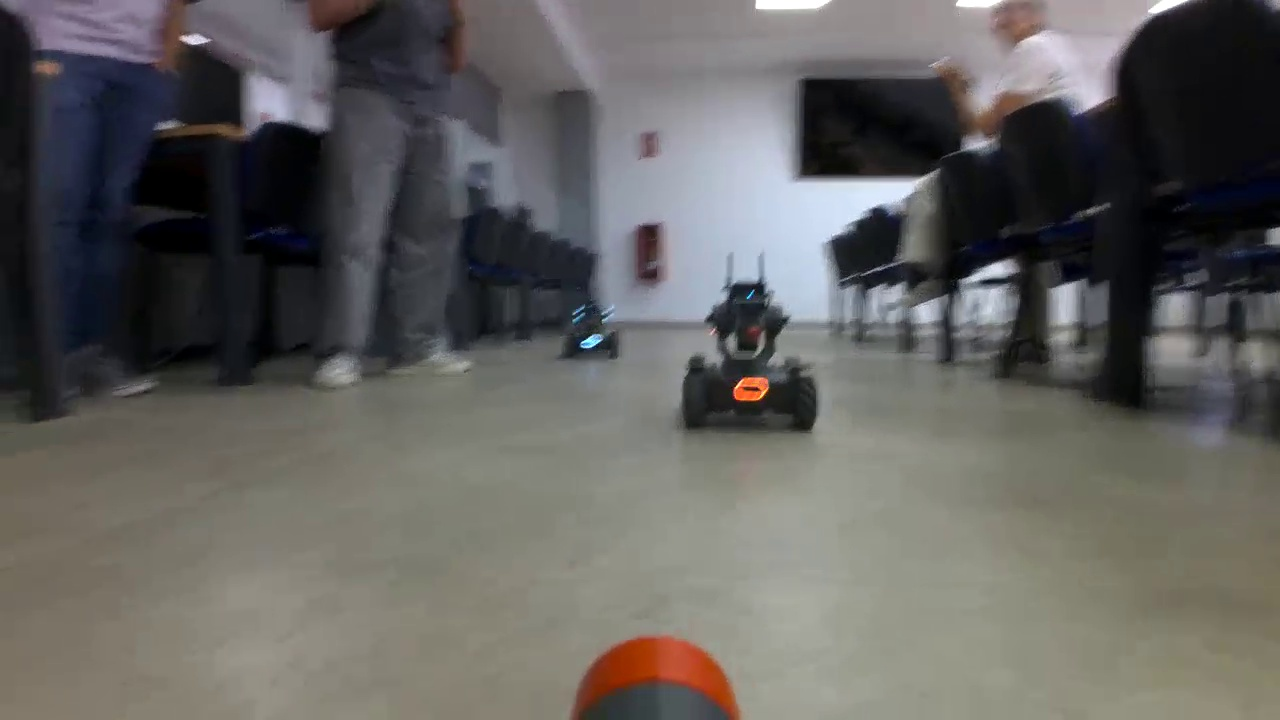robot: (682, 279, 816, 428), (562, 308, 625, 378)
